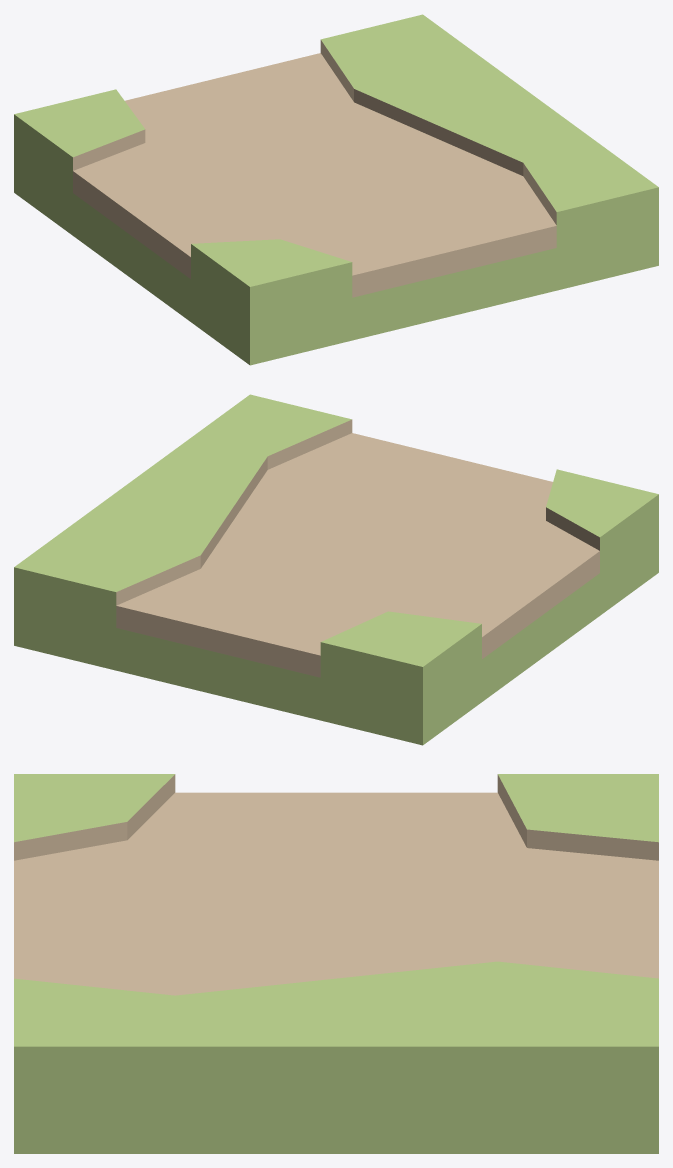
File: tile202.gltf
3 renders of one model, top to bottom at view 1: azimuth 30°, elevation 25°; view 2: azimuth 150°, elevation 25°; view 3: azimuth 270°, elevation 25°, orthographic. The views are drawn at different scales.
Parts seen in each view (by area): view 1: tile202; view 2: tile202; view 3: tile202.
Part boxes in pixels (bbox=[...]): tile202: bbox=[14, 14, 658, 365]; tile202: bbox=[14, 394, 658, 745]; tile202: bbox=[14, 774, 658, 1153].
Size of the model in its own units: 1 by 0.1833 by 1.
